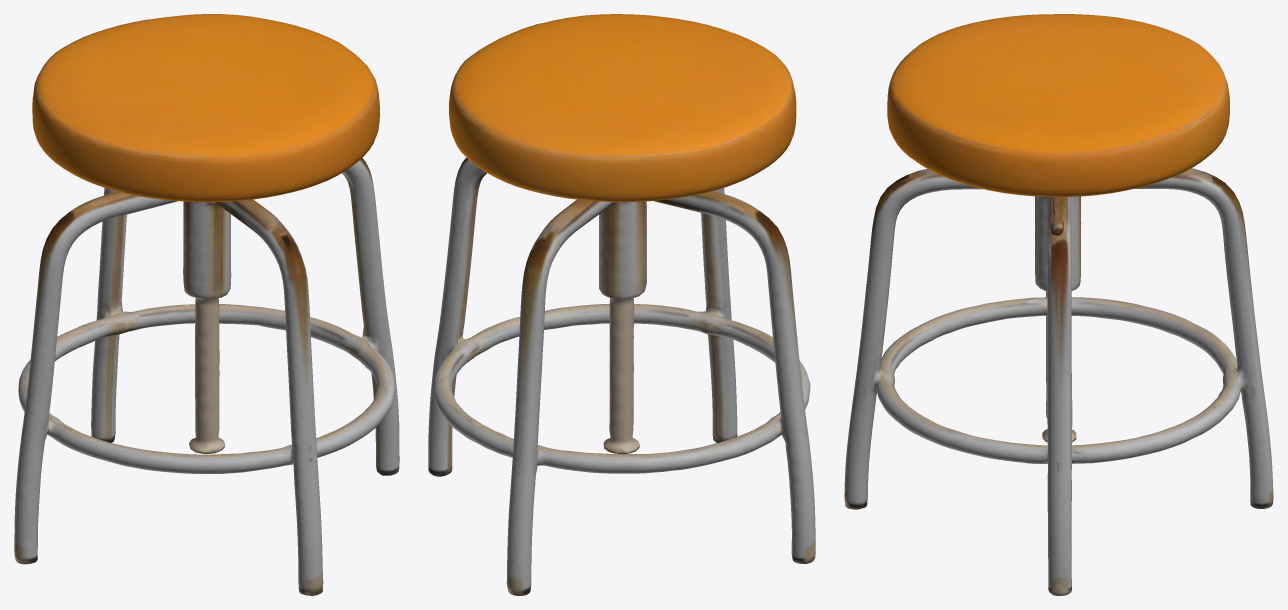
Rendered from stool.fbx.
3 views of the same model, side by side, from view 1: azimuth 30°, elevation 25°; view 2: azimuth 150°, elevation 25°; view 3: azimuth 270°, elevation 25° (orthographic).
Visible parts, largest first — view 1: Mesh1.0; view 2: Mesh1.0; view 3: Mesh1.0.
Part boxes in pixels (x1,y1,x2,y2): Mesh1.0: (14,14,399,595); Mesh1.0: (428,14,815,595); Mesh1.0: (844,14,1273,595).
Bounding box in the file's own units: 182 × 201 × 180.
Materials: 1 (1 with a texture image).
